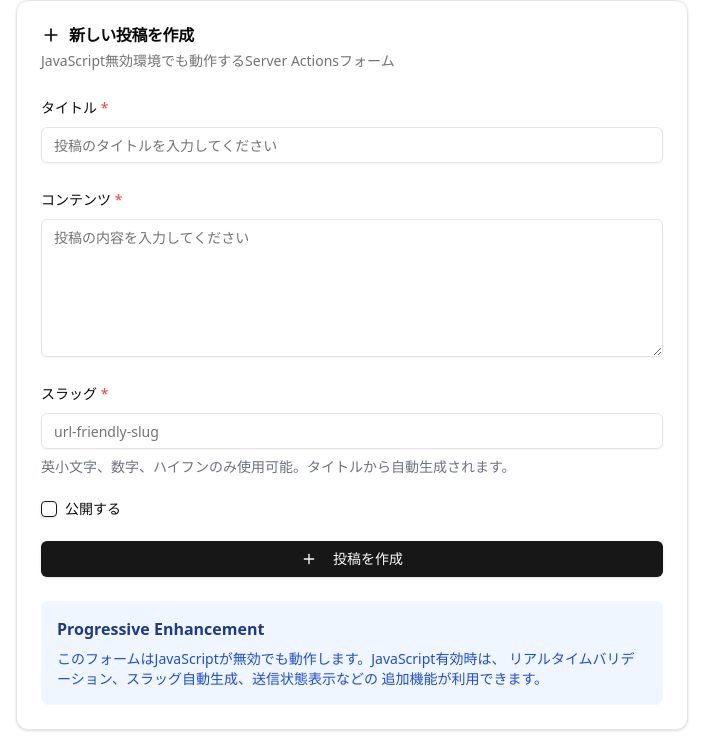
PostForm Component › 新規作成フォーム › should generate slug when typing title
The width and height of the screenshot is (705, 748).
Note:  タイトルを入力
In the field labelled "タイトル *": (352, 145) [41, 127, 663, 163], type "Hello World"
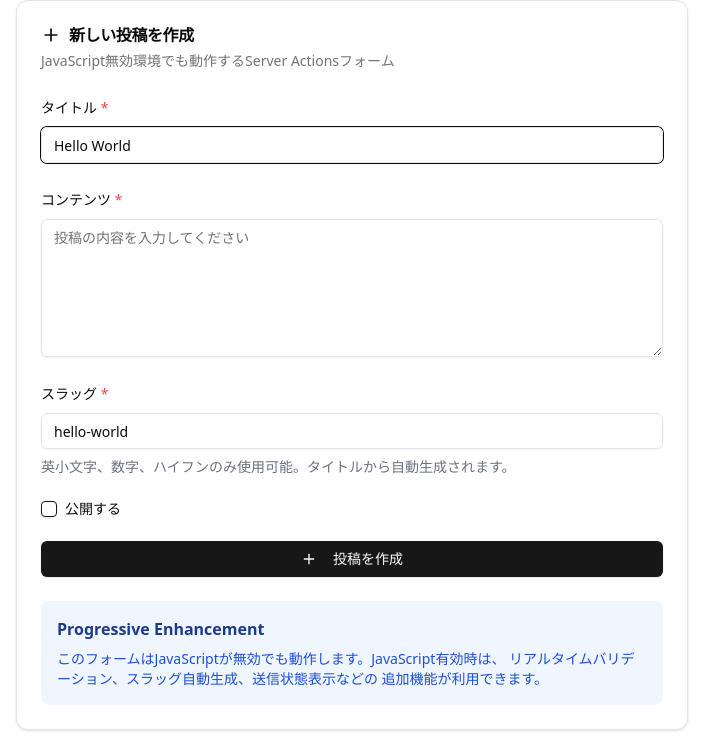
Expected: the field labelled "スラッグ *" holds "hello-world", [41, 413, 663, 449]
